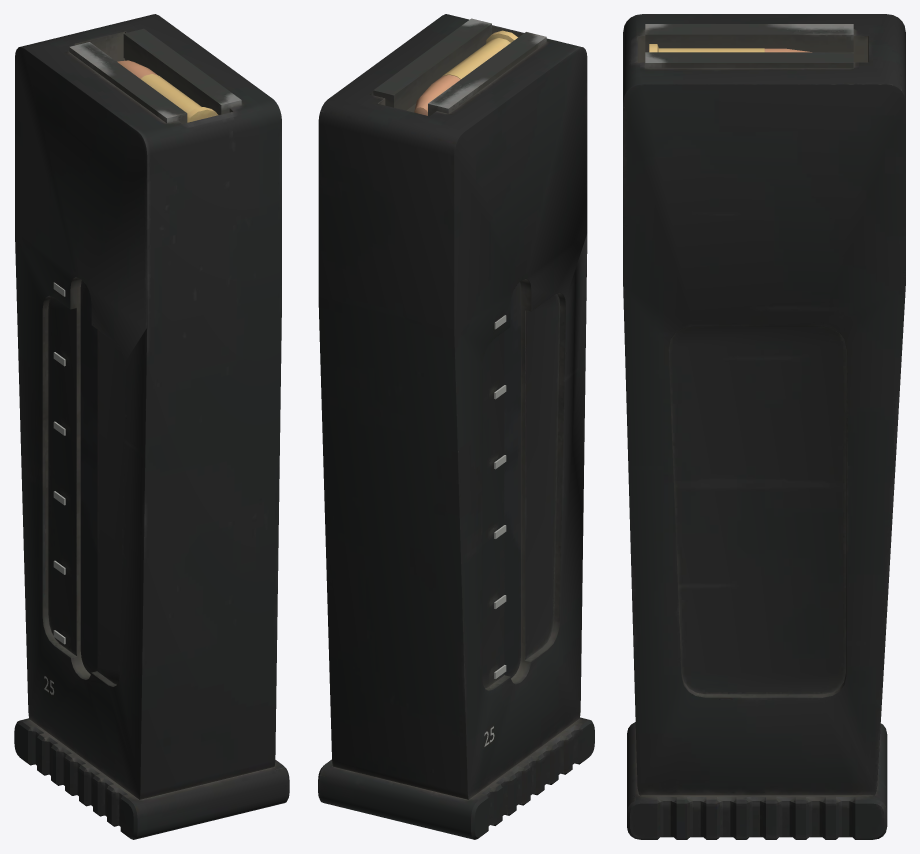
Rendered from carregador_22_25.glb.
The picture shows the model from 3 angles, left to right: view 1: azimuth 30°, elevation 25°; view 2: azimuth 150°, elevation 25°; view 3: azimuth 270°, elevation 25°; orthographic projection. The views are drawn at different scales.
Parts seen in each view (by area): view 1: carregador_22_25_carregador; view 2: carregador_22_25_carregador; view 3: carregador_22_25_carregador.
Part boxes in pixels (left/top/right/bottom): carregador_22_25_carregador: left=14, top=14, right=289, bottom=839; carregador_22_25_carregador: left=318, top=14, right=594, bottom=839; carregador_22_25_carregador: left=623, top=14, right=905, bottom=839.
Size of the model in its own units: 0.0258 by 0.1123 by 0.038.
Materials: 1 (1 with a texture image).
